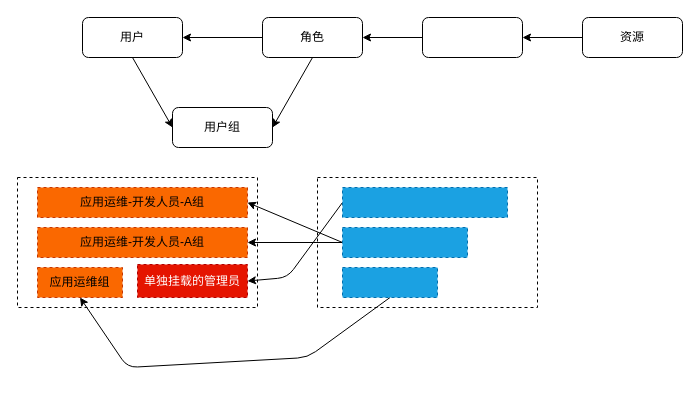
Image size: 700x393. Some labels were removed from this diagram. The shapes that lost their labels are listed below. From the top down, each one's centre as x and y in pixels, then its label:
At (x=472, y=37): "权限".
At (x=425, y=202): "应用运维-管理员".
At (x=405, y=242): "应用运维-开发人员".
At (x=390, y=282): "应用运维-通用".
